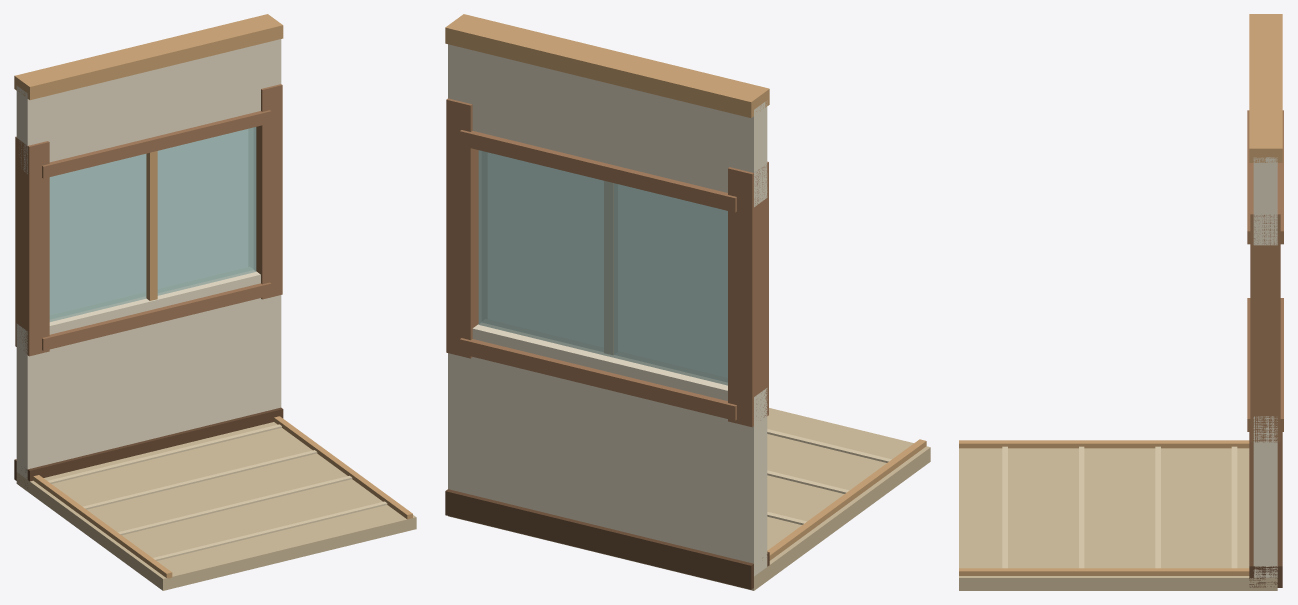
Rendered from library-floor-wall.glb.
3 views of the same model, side by side, from view 1: azimuth 30°, elevation 25°; view 2: azimuth 150°, elevation 25°; view 3: azimuth 270°, elevation 25° (orthographic). The views are drawn at different scales.
Visible parts, largest first — view 1: wall_panel_wall, floor_panel_floor, wall_panel_glass, wall_panel_wallTrim, wall_panel_woodLight, floor_panel_floorLight, wall_panel_woodDark, floor_panel_woodLight; view 2: wall_panel_wall, wall_panel_glass, wall_panel_wallTrim, floor_panel_floor, wall_panel_woodLight, wall_panel_woodDark, floor_panel_woodLight, floor_panel_floorLight; view 3: floor_panel_floor, wall_panel_wallTrim, wall_panel_wall, wall_panel_woodLight, floor_panel_woodLight, floor_panel_floorLight, wall_panel_woodDark.
Part boxes in pixels (bbox=[...]): wall_panel_wall: bbox=[16, 39, 281, 479]; floor_panel_floor: bbox=[16, 422, 416, 590]; wall_panel_glass: bbox=[49, 127, 256, 321]; wall_panel_wallTrim: bbox=[15, 84, 282, 356]; wall_panel_woodLight: bbox=[14, 14, 283, 300]; floor_panel_floorLight: bbox=[48, 424, 387, 560]; wall_panel_woodDark: bbox=[14, 407, 283, 488]; floor_panel_woodLight: bbox=[33, 416, 412, 578]; wall_panel_wall: bbox=[448, 44, 767, 576]; wall_panel_glass: bbox=[478, 150, 727, 385]; wall_panel_wallTrim: bbox=[446, 98, 768, 427]; floor_panel_floor: bbox=[448, 408, 930, 590]; wall_panel_woodLight: bbox=[445, 14, 769, 354]; wall_panel_woodDark: bbox=[445, 489, 769, 589]; floor_panel_woodLight: bbox=[767, 439, 926, 560]; floor_panel_floorLight: bbox=[767, 429, 891, 524]; floor_panel_floor: bbox=[959, 448, 1277, 590]; wall_panel_wallTrim: bbox=[1247, 110, 1283, 442]; wall_panel_wall: bbox=[1253, 157, 1277, 577]; wall_panel_woodLight: bbox=[1249, 14, 1282, 162]; floor_panel_woodLight: bbox=[959, 440, 1249, 575]; floor_panel_floorLight: bbox=[1002, 446, 1237, 568]; wall_panel_woodDark: bbox=[1249, 432, 1282, 587].
Bounding box in the file's own units: 2 × 3.07 × 2.04.
